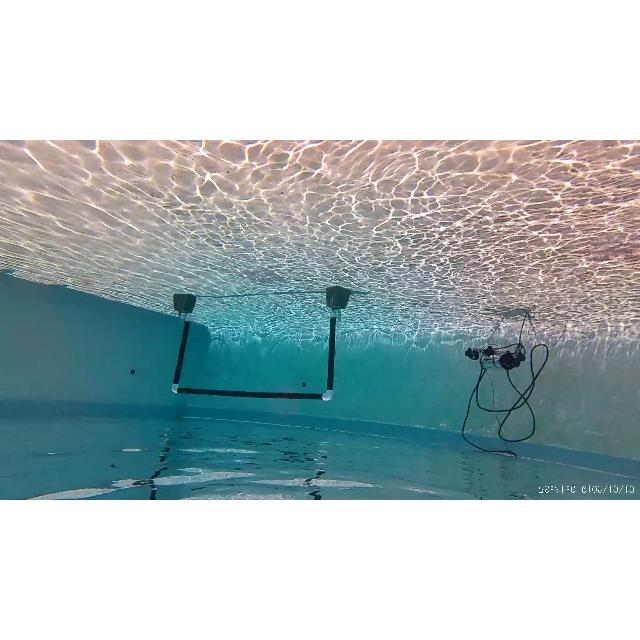prequal gate: (175, 316, 335, 398)
prequal gate leg l: (318, 285, 347, 405)
prequal gate leg r: (170, 294, 190, 396)
